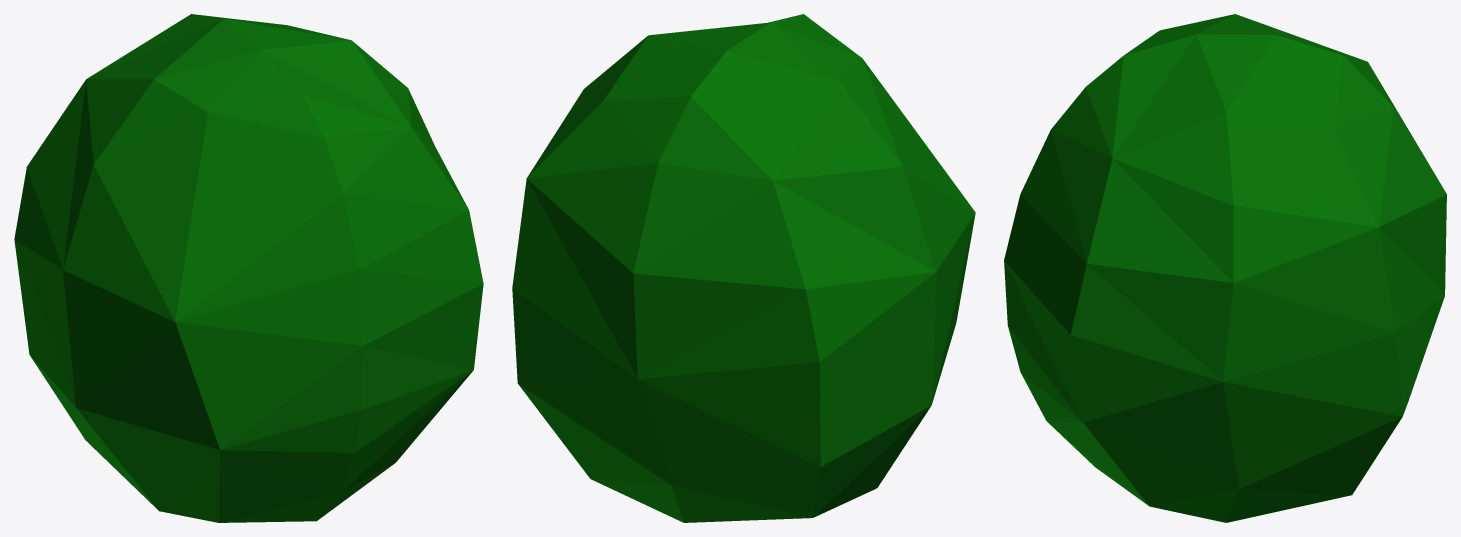
Rendered from watermelon.fbx.
3 views of the same model, side by side, from view 1: azimuth 30°, elevation 25°; view 2: azimuth 150°, elevation 25°; view 3: azimuth 270°, elevation 25° (orthographic). The views are drawn at different scales.
Parts seen in each view (by area): view 1: Cube; view 2: Cube; view 3: Cube.
Part boxes in pixels (x1,y1,x2,y2): Cube: (14,14,483,522); Cube: (512,14,975,522); Cube: (1004,14,1446,522).
Bounding box in the file's own units: 619 × 729 × 636.
